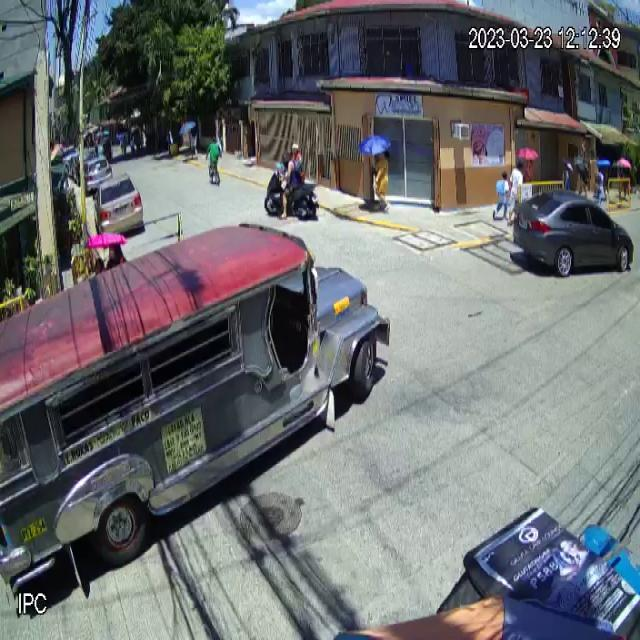Car: (512, 187, 635, 279)
Jeep: (0, 224, 393, 604)
